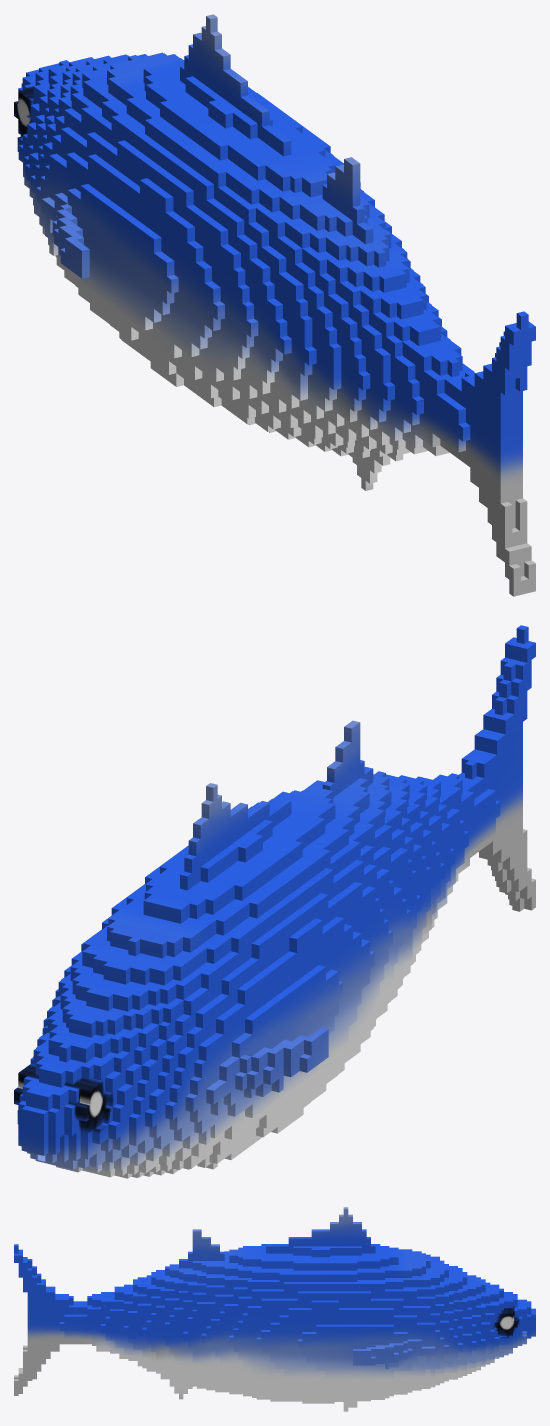
The model's file is magoro2.fbx.
The picture shows the model from 3 angles, top to bottom: view 1: azimuth 30°, elevation 25°; view 2: azimuth 150°, elevation 25°; view 3: azimuth 270°, elevation 25°; orthographic projection. The views are drawn at different scales.
Visible parts, largest first — view 1: Cube.002; view 2: Cube.002; view 3: Cube.002.
Part boxes in pixels (x1=…): Cube.002: x1=14, y1=14, x2=535, y2=596; Cube.002: x1=14, y1=625, x2=535, y2=1178; Cube.002: x1=14, y1=1207, x2=535, y2=1411.
Bounding box in the file's own units: 288 × 425 × 994.
Materials: 1 (1 with a texture image).
